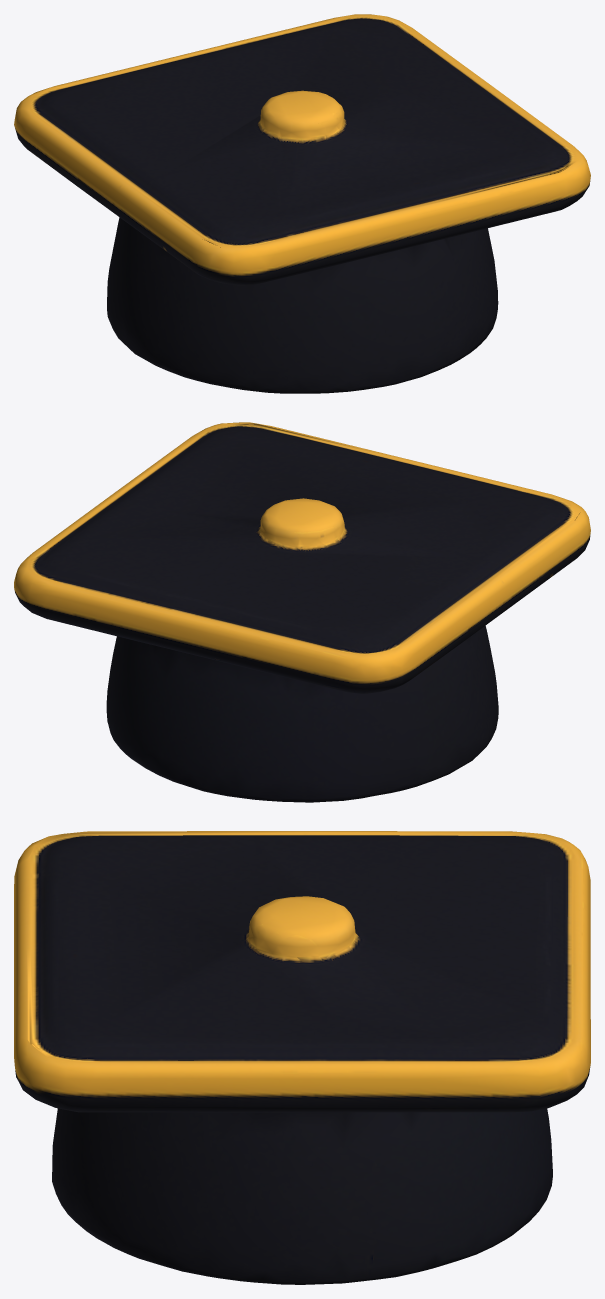
File: Item_Mortarboard.fbx
3 views of the same model, one above another, from view 1: azimuth 30°, elevation 25°; view 2: azimuth 150°, elevation 25°; view 3: azimuth 270°, elevation 25° (orthographic). The views are drawn at different scales.
Parts seen in each view (by area): view 1: Item_Mortarboard; view 2: Item_Mortarboard; view 3: Item_Mortarboard.
Part boxes in pixels (box(x1,y1,x2,y2)): Item_Mortarboard: box(14, 14, 590, 393); Item_Mortarboard: box(14, 422, 590, 802); Item_Mortarboard: box(14, 831, 590, 1284).
Bounding box in the file's own units: 0.6396 × 0.3291 × 0.64.
Materials: 1 (1 with a texture image).
